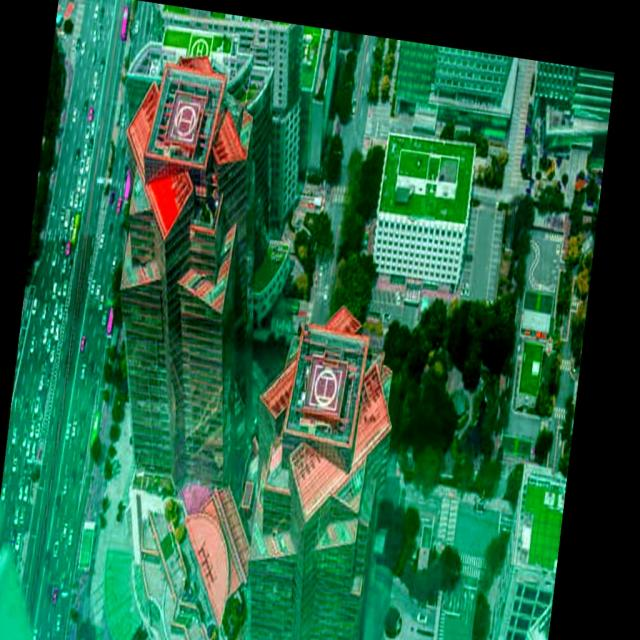helipad: (312, 368, 337, 408), (173, 104, 198, 138)
